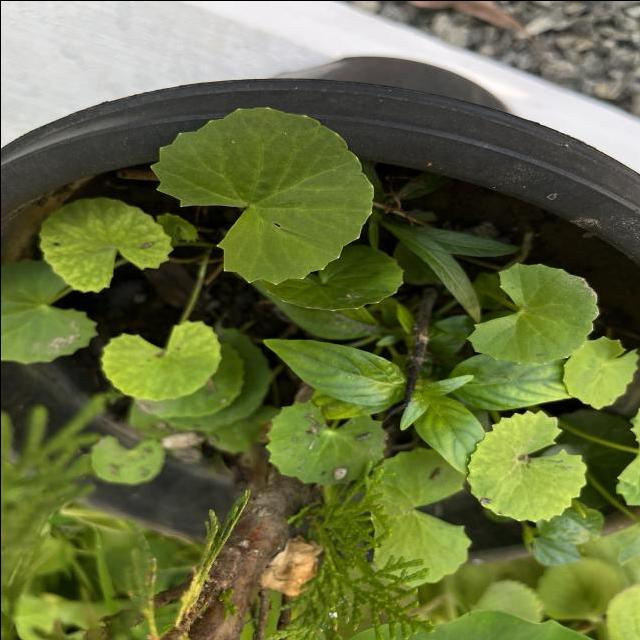Centella asiatica: (146, 102, 380, 286), (462, 406, 590, 524), (462, 260, 602, 366)
